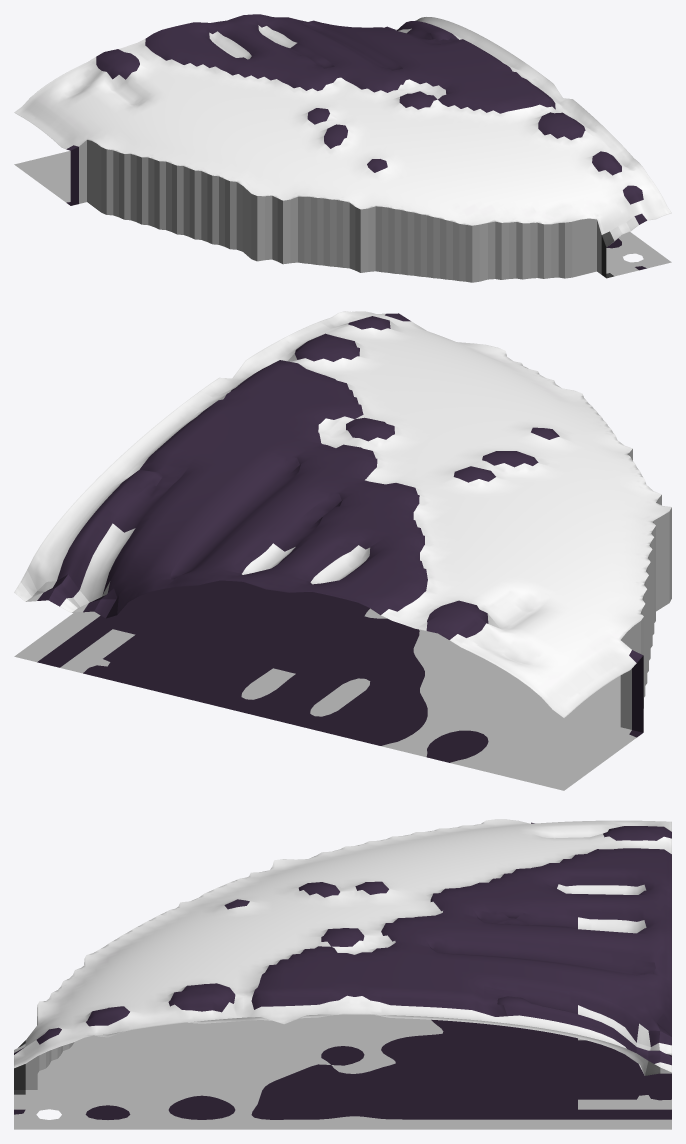
Rendered from delbld-hull-570.glb.
The picture shows the model from 3 angles, top to bottom: view 1: azimuth 30°, elevation 25°; view 2: azimuth 150°, elevation 25°; view 3: azimuth 270°, elevation 25°; orthographic projection. The views are drawn at different scales.
Visible parts, largest first — view 1: delbld-hull-570; view 2: delbld-hull-570; view 3: delbld-hull-570.
Part boxes in pixels (x1=…): delbld-hull-570: x1=14, y1=14, x2=671, y2=282; delbld-hull-570: x1=14, y1=311, x2=671, y2=790; delbld-hull-570: x1=14, y1=819, x2=671, y2=1129.
Size of the model in its own units: 2 by 0.4799 by 2.33.
5 materials, 5 textured.
